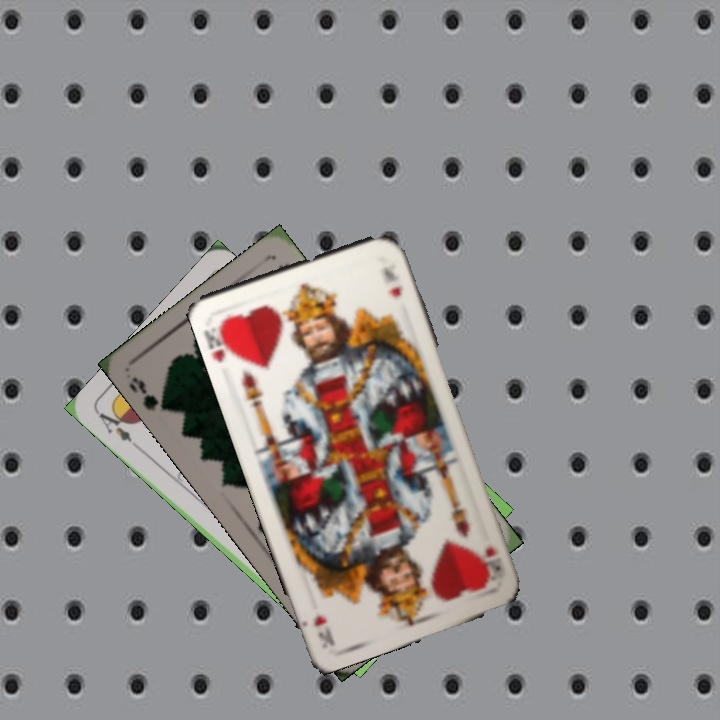EA: (94, 404, 142, 452)
G9: (124, 372, 174, 414)
HK: (201, 317, 239, 365), (477, 541, 504, 580)
